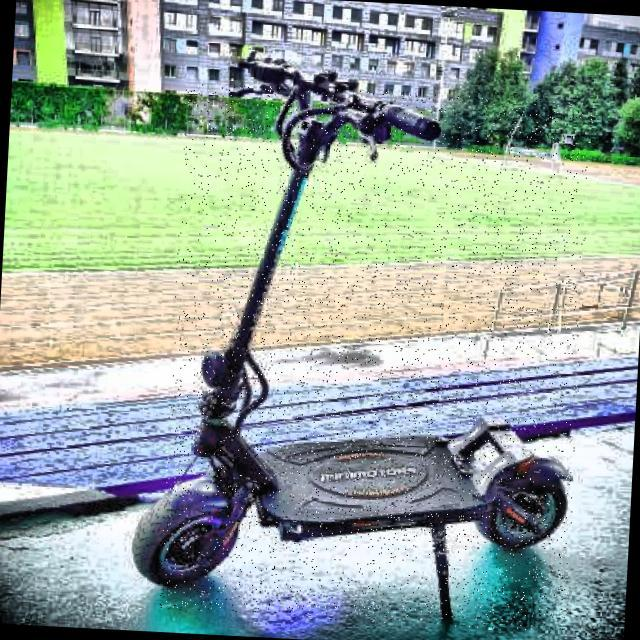bike: (132, 58, 587, 616), (130, 347, 572, 621), (193, 56, 443, 451)
